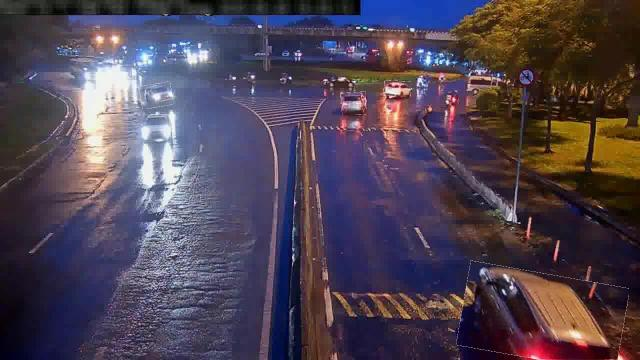Car: (459, 267, 627, 359), (143, 115, 171, 145), (140, 84, 172, 108), (342, 92, 366, 115), (384, 81, 412, 97)
